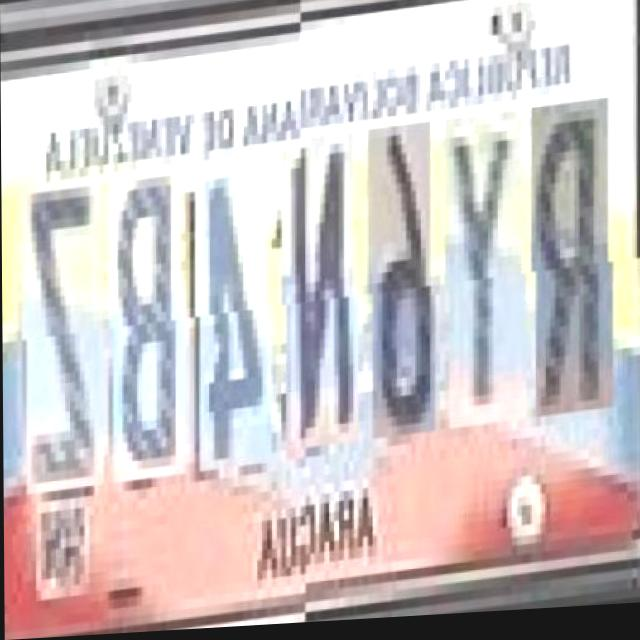4: (194, 150, 269, 467)
6: (365, 133, 432, 450)
b: (107, 159, 182, 476)
n: (279, 141, 354, 458)
r: (530, 114, 610, 433)
y: (443, 123, 523, 442)
z: (20, 167, 101, 486)
